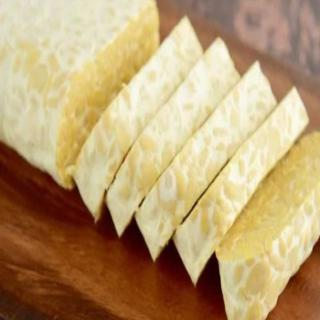Tempe: (135, 59, 279, 263), (69, 14, 205, 223), (173, 85, 310, 288), (216, 130, 320, 320)
